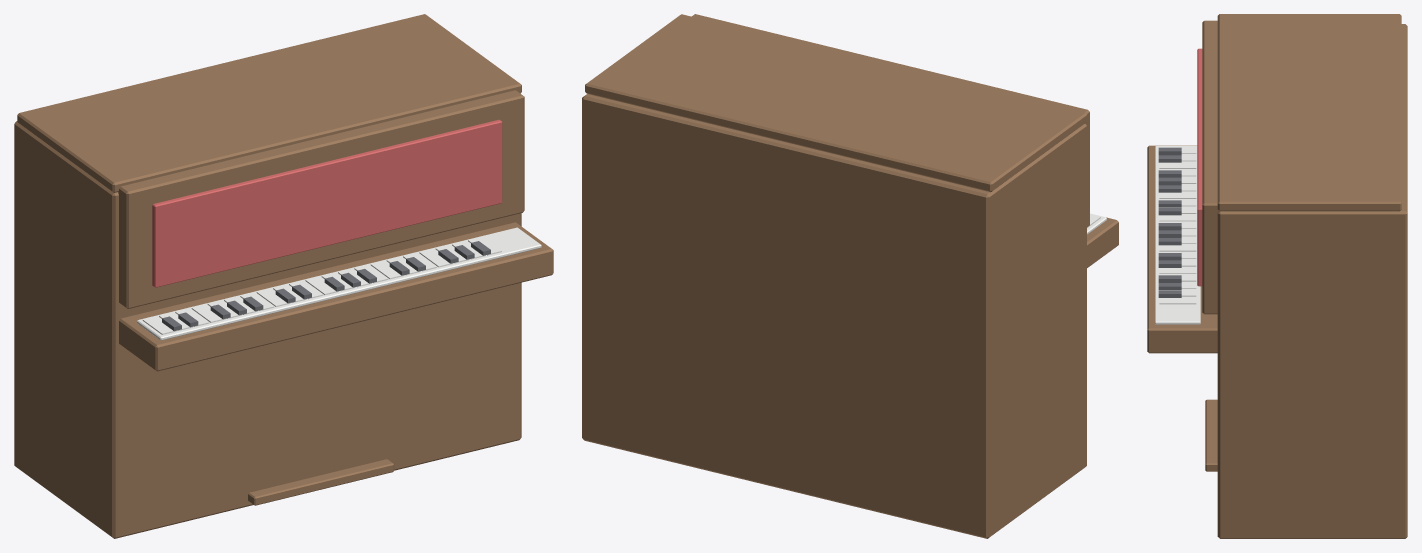
The picture shows the model from 3 angles, left to right: view 1: azimuth 30°, elevation 25°; view 2: azimuth 150°, elevation 25°; view 3: azimuth 270°, elevation 25°; orthographic projection. The views are drawn at different scales.
Visible parts, largest first — view 1: upright-piano, piano-lid/timber; view 2: upright-piano, piano-lid/timber; view 3: upright-piano, piano-lid/timber.
Part boxes in pixels (x1=…): upright-piano: x1=14, y1=90, x2=553, y2=538; piano-lid/timber: x1=17, y1=14, x2=521, y2=192; upright-piano: x1=582, y1=14, x2=1118, y2=538; piano-lid/timber: x1=585, y1=14, x2=1087, y2=192; upright-piano: x1=1147, y1=20, x2=1407, y2=538; piano-lid/timber: x1=1217, y1=14, x2=1401, y2=211.
Bounding box in the file's own units: 1.46 × 1.21 × 0.8501.
